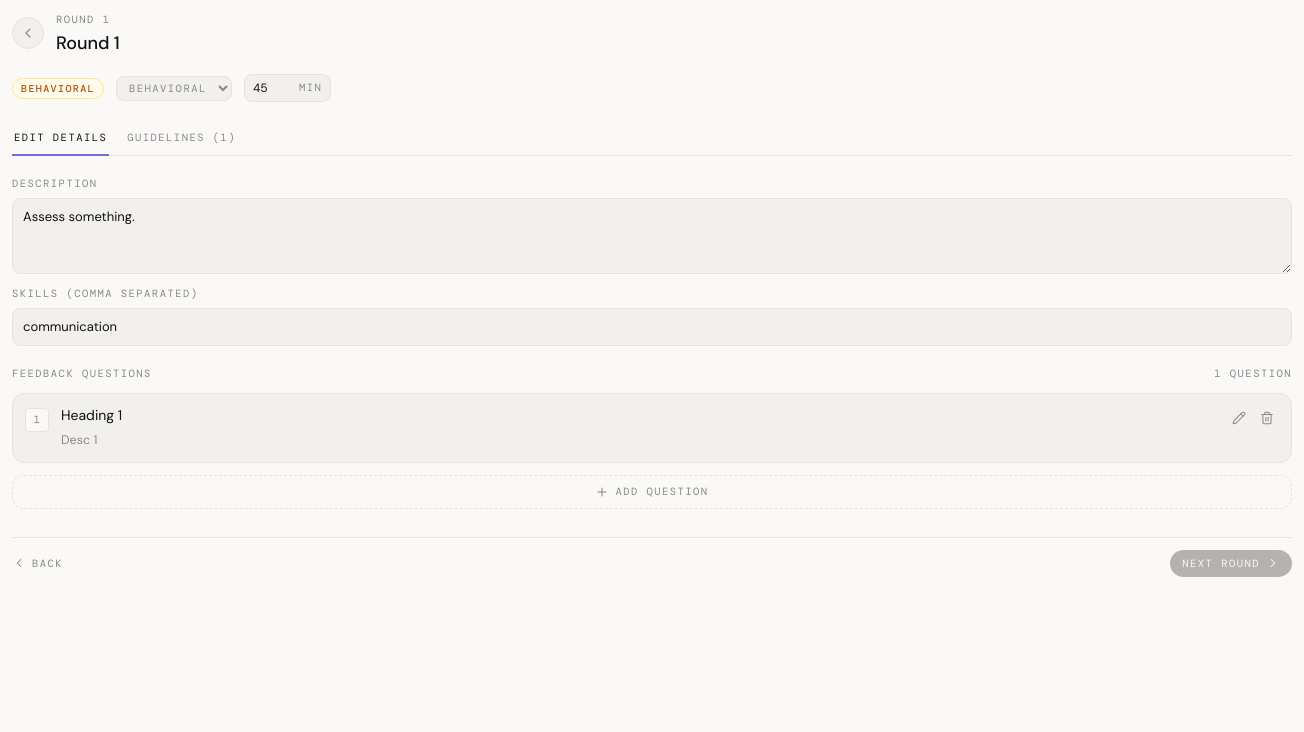
RoundDetailView › tabs switch between Edit Details and Guidelines panels
Expected: the element with id "rd-tab-details-panel" is shown, [12, 176, 1292, 346]
Click the button with id "rd-tab-guidelines": [182, 139] box [125, 122, 238, 156]
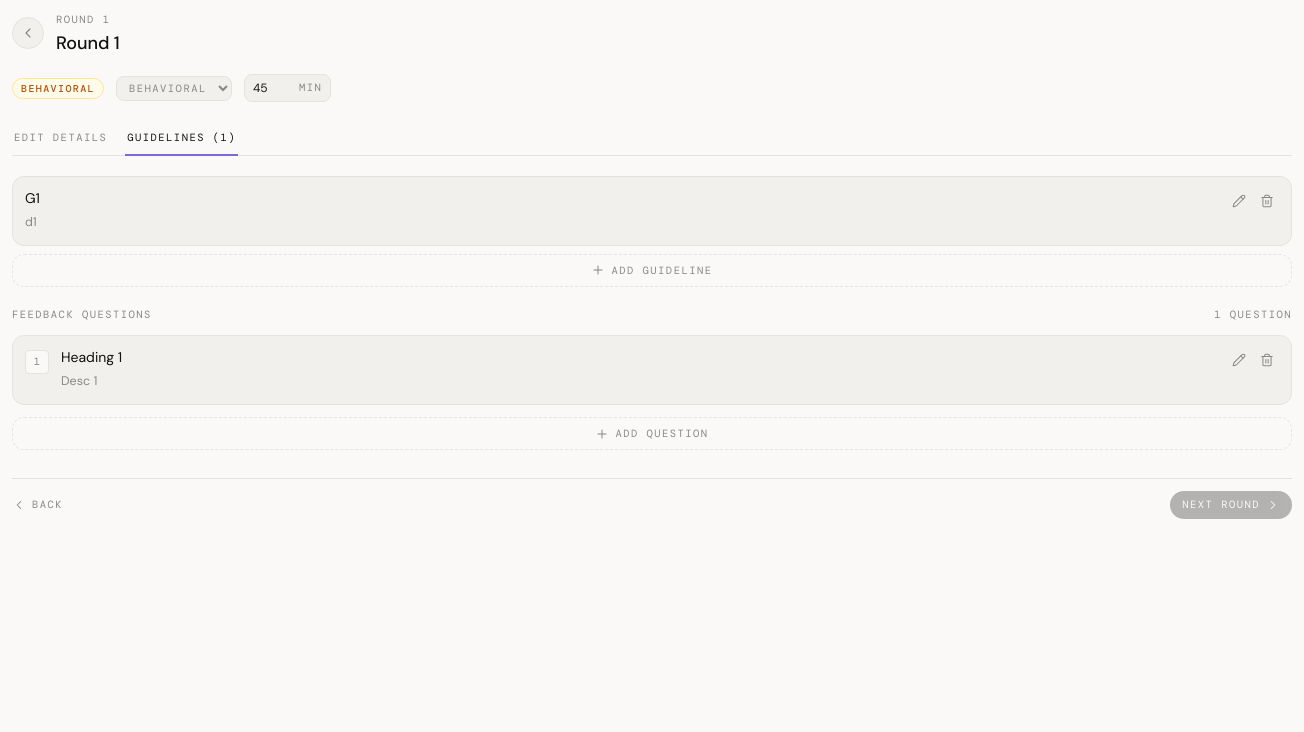
Expected: the element with id "rd-tab-details-panel" is gone
Expected: the element with id "rd-tab-guidelines-panel" is shown, [12, 176, 1292, 287]
